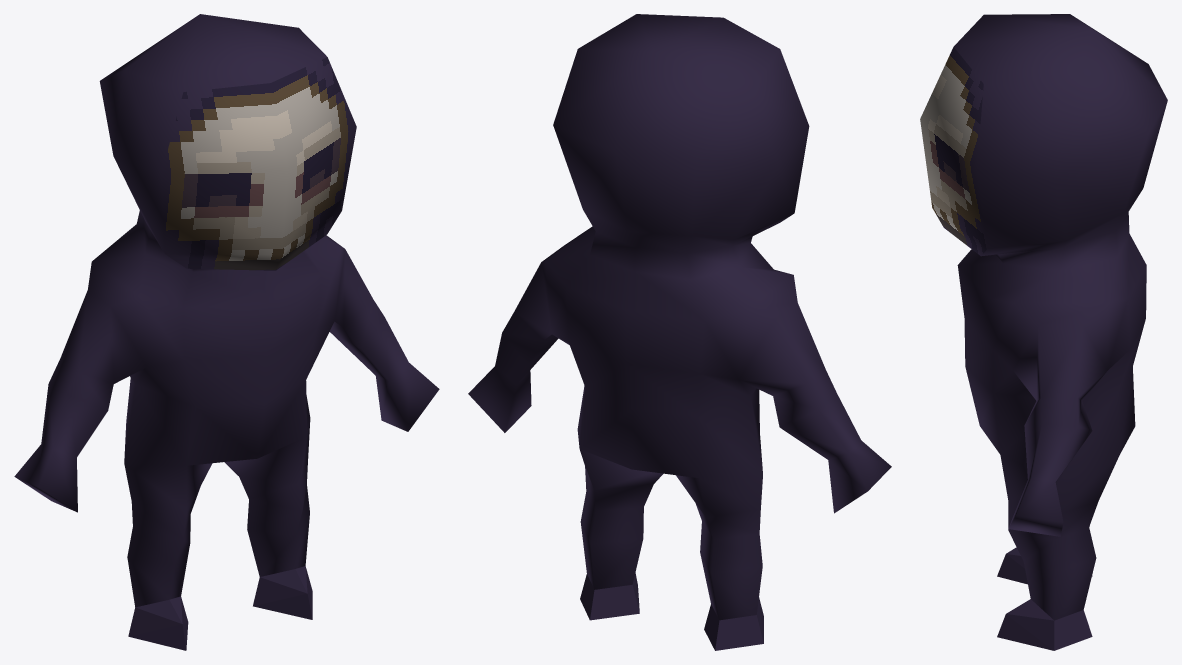
File: skullboy.FBX
3 renders of one model, left to right at view 1: azimuth 30°, elevation 25°; view 2: azimuth 150°, elevation 25°; view 3: azimuth 270°, elevation 25°, orthographic.
Visible parts, largest first — view 1: Cylinder004; view 2: Cylinder004; view 3: Cylinder004.
Part boxes in pixels (x1,y1,x2,y2): Cylinder004: [14, 14, 439, 650]; Cylinder004: [468, 14, 891, 650]; Cylinder004: [920, 14, 1167, 650].
Bounding box in the file's own units: 37.83 × 52.8 × 20.56.
